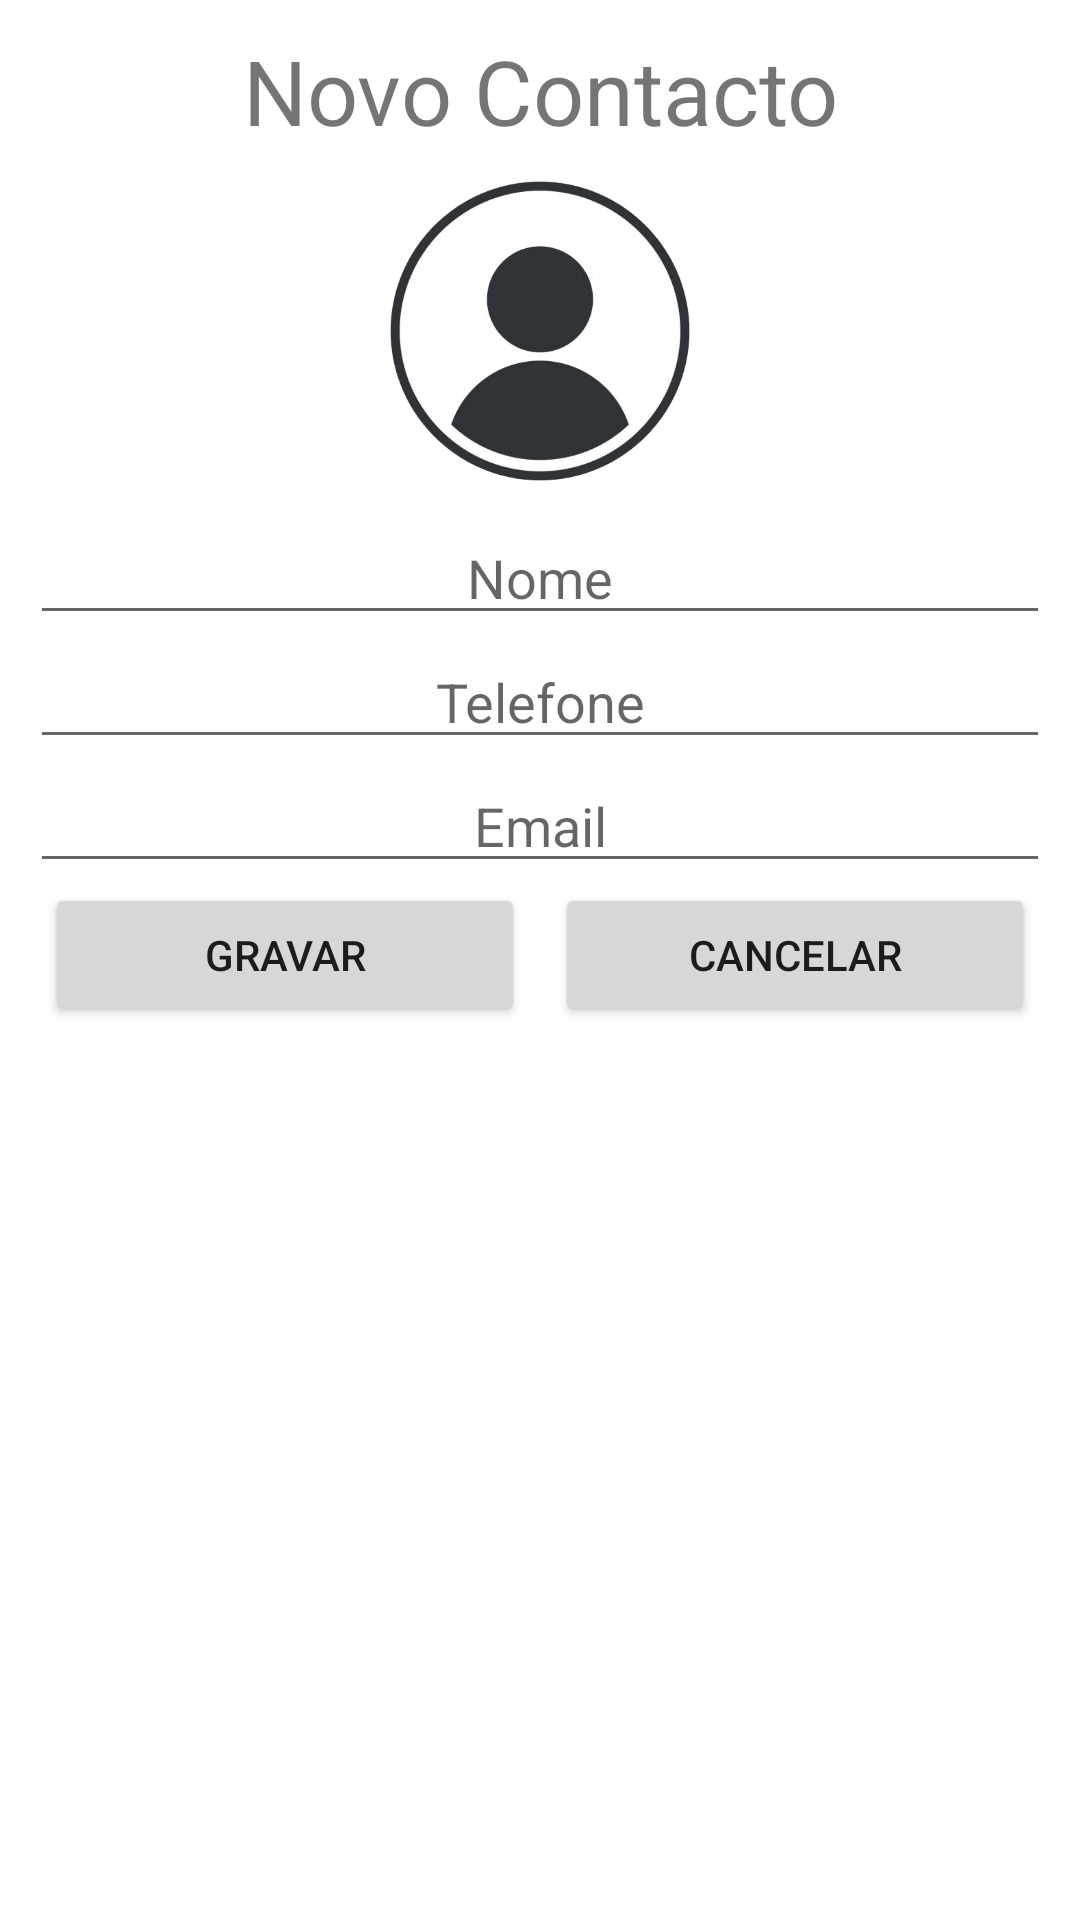

Locate icon controls on the screen. Image size 1080w x 1920h, boxes as (x1, y1, x2, y2).
profiledefault: (390, 181, 690, 481)
